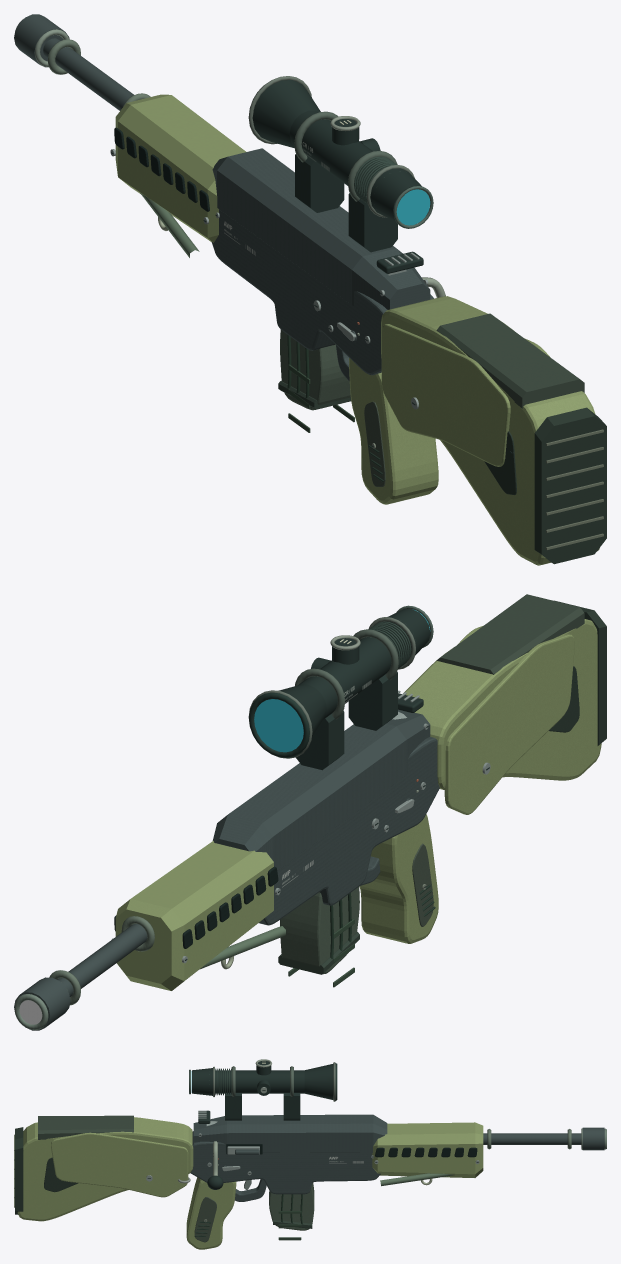
The model's file is awp.glb.
The picture shows the model from 3 angles, top to bottom: view 1: azimuth 30°, elevation 25°; view 2: azimuth 150°, elevation 25°; view 3: azimuth 270°, elevation 25°; orthographic projection. The views are drawn at different scales.
Parts seen in each view (by area): view 1: awp, magazine; view 2: awp, magazine; view 3: awp, magazine, chargingHandle, bolt.
Boxes of the visible parts, box(x1,y1,x2,y2) form: awp: box(14, 14, 606, 565); magazine: box(278, 330, 354, 432); awp: box(14, 594, 606, 1030); magazine: box(278, 887, 359, 987); awp: box(14, 1059, 606, 1249); magazine: box(269, 1182, 314, 1240); chargingHandle: box(207, 1141, 223, 1189); bolt: box(227, 1146, 259, 1154).
Size of the model in its own units: 0.2596 by 0.6166 by 1.82.
Materials: 40 (19 with a texture image).
